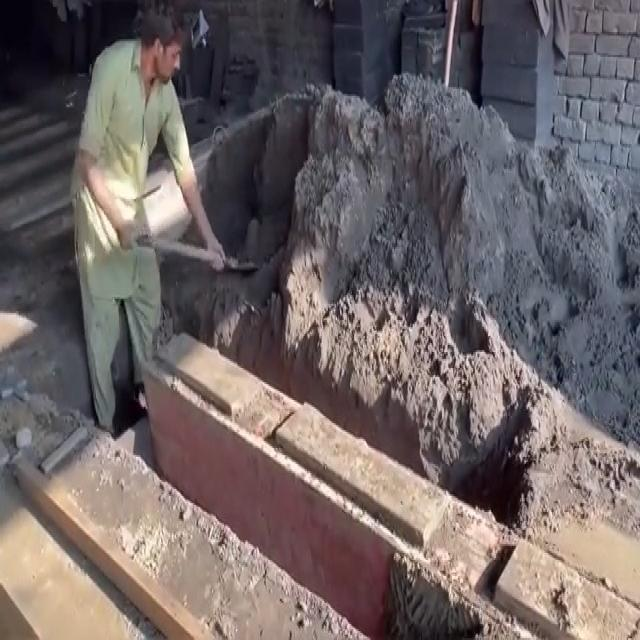dress: (71, 43, 197, 411)
